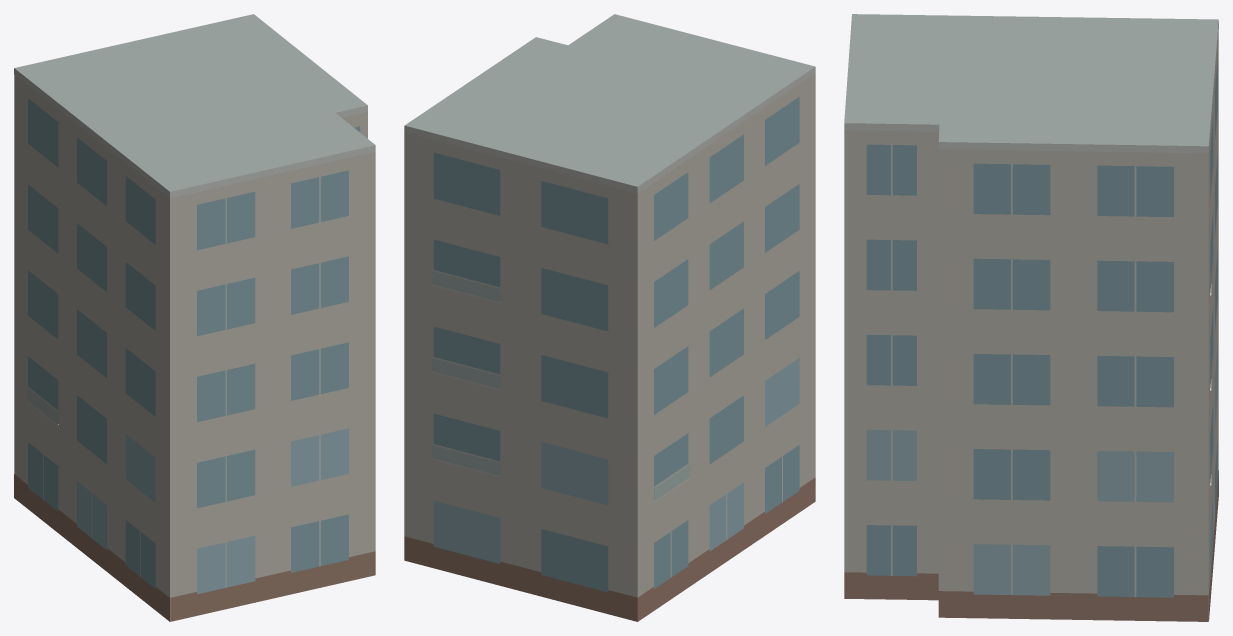
File: survey-upis-32736894.glb
3 renders of one model, left to right at view 1: azimuth 30°, elevation 25°; view 2: azimuth 150°, elevation 25°; view 3: azimuth 270°, elevation 25°, orthographic. The views are drawn at different scales.
Parts seen in each view (by area): view 1: survey-upis-32736894.tmp; view 2: survey-upis-32736894.tmp; view 3: survey-upis-32736894.tmp.
Boxes of the visible parts, left/top/right/bottom form: survey-upis-32736894.tmp: left=14, top=14, right=375, bottom=621; survey-upis-32736894.tmp: left=404, top=14, right=815, bottom=621; survey-upis-32736894.tmp: left=844, top=14, right=1218, bottom=621.
Size of the model in its own units: 9.64 by 16.15 by 11.54.
